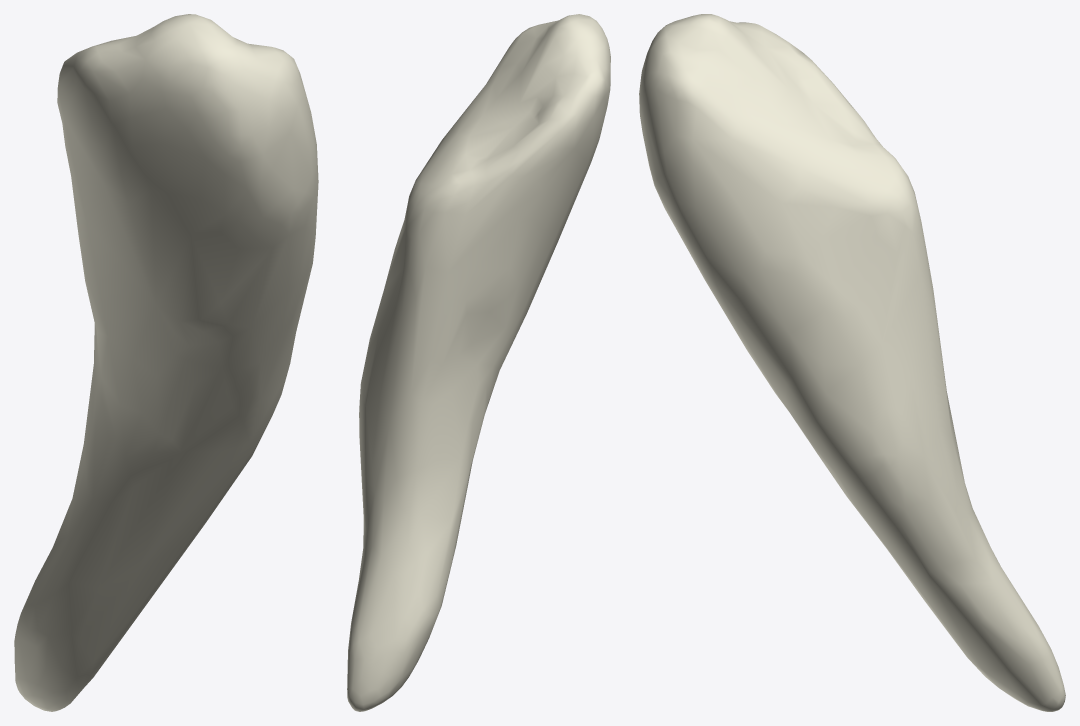
File: Right lower canine tooth.fbx
3 views of the same model, side by side, from view 1: azimuth 30°, elevation 25°; view 2: azimuth 150°, elevation 25°; view 3: azimuth 270°, elevation 25° (orthographic). The views are drawn at different scales.
Visible parts, largest first — view 1: Right lower canine tooth; view 2: Right lower canine tooth; view 3: Right lower canine tooth.
Part boxes in pixels (x1,y1,x2,y2): Right lower canine tooth: [14, 14, 318, 711]; Right lower canine tooth: [347, 14, 610, 711]; Right lower canine tooth: [639, 14, 1065, 711].
Bounding box in the file's own units: 1.15 × 3.57 × 2.08.
